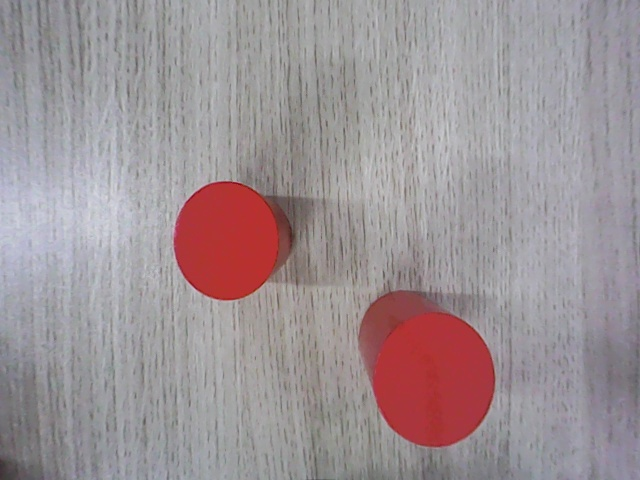upside of cylinder: (373, 313, 495, 447), (173, 182, 279, 301)
